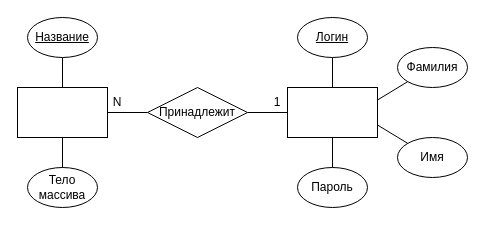
This 485x225 diagram has some shape labels left out. Each missing label, with the centre of its shape:
"Массив" goes at (x=62, y=112).
"Пользователь" goes at (x=332, y=112).
